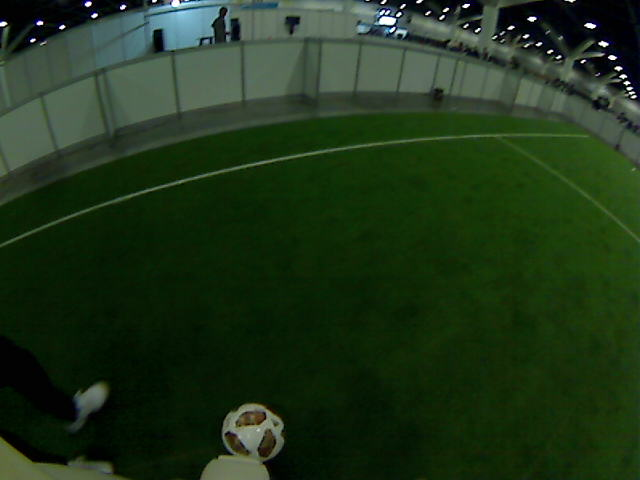ball: (232, 413, 272, 453)
